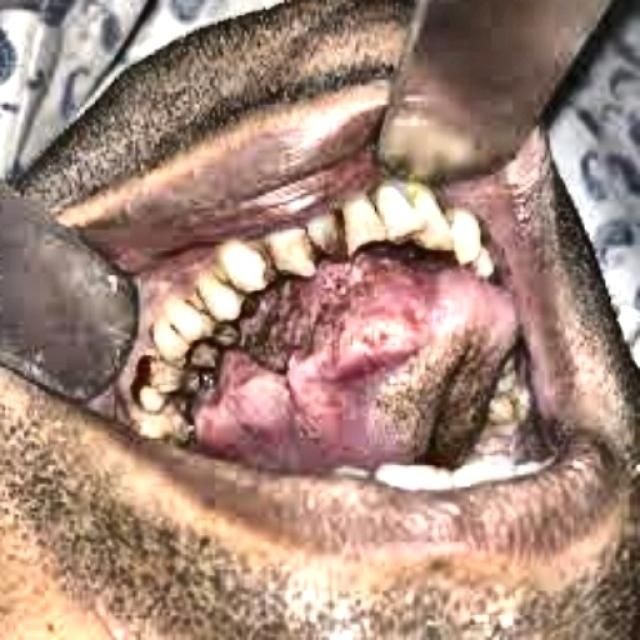cancer-detection: (197, 251, 386, 394)
processing_area: (138, 253, 531, 470)
